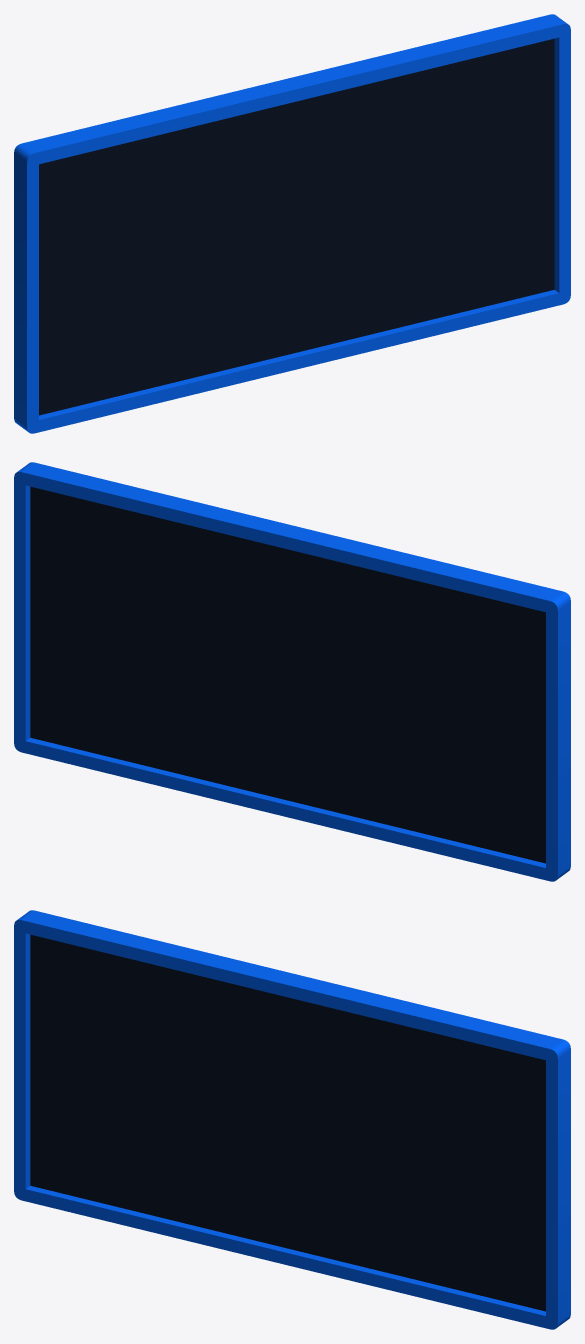
Rendered from MenuCard.FBX.
The picture shows the model from 3 angles, top to bottom: view 1: azimuth 30°, elevation 25°; view 2: azimuth 150°, elevation 25°; view 3: azimuth 330°, elevation 25°; orthographic projection.
Visible parts, largest first — view 1: CardContent, CardBorder; view 2: CardContent, CardBorder; view 3: CardContent, CardBorder.
Part boxes in pixels (<box>): CardContent: <box>39,38,554,415</box>; CardBorder: <box>14,14,570,433</box>; CardContent: <box>30,486,545,863</box>; CardBorder: <box>14,462,570,881</box>; CardContent: <box>30,934,545,1311</box>; CardBorder: <box>14,910,570,1329</box>.
Bounding box in the file's own units: 69.43 × 34.2 × 2.9.
